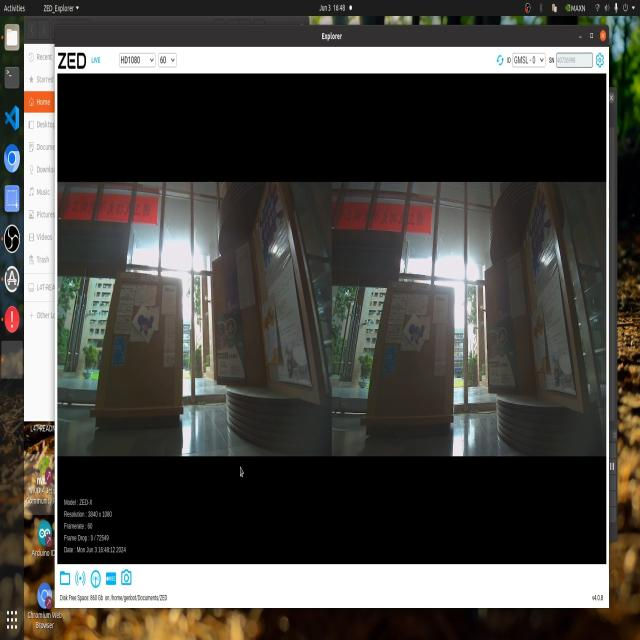blue: (407, 321, 428, 362), (133, 312, 153, 336)
